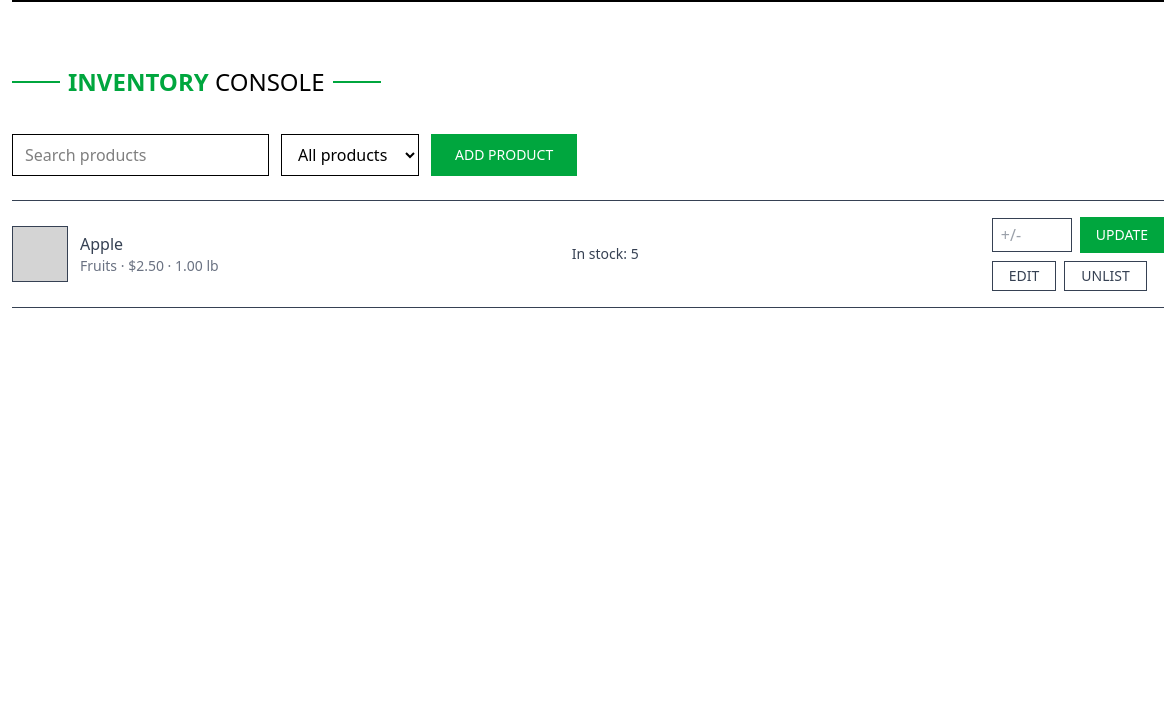
it: Inventory › will not save an edit with the weight removed
This screenshot has width=1176, height=720.
Expected: the text "Apple" is shown, left=80, top=233, right=123, bottom=255
Click the button "EDIT" at coordinates (1024, 276), box left=992, top=261, right=1056, bottom=291
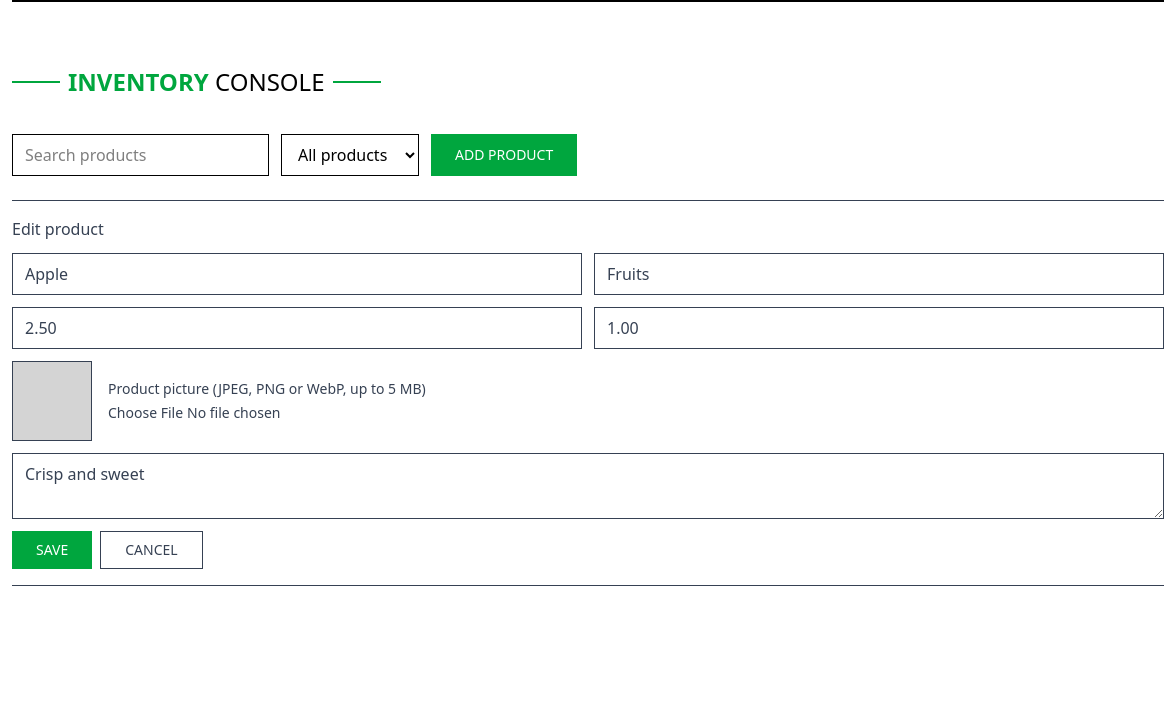
Clear the number field named "Weight in lb" at coordinates (879, 328), box left=594, top=307, right=1164, bottom=349
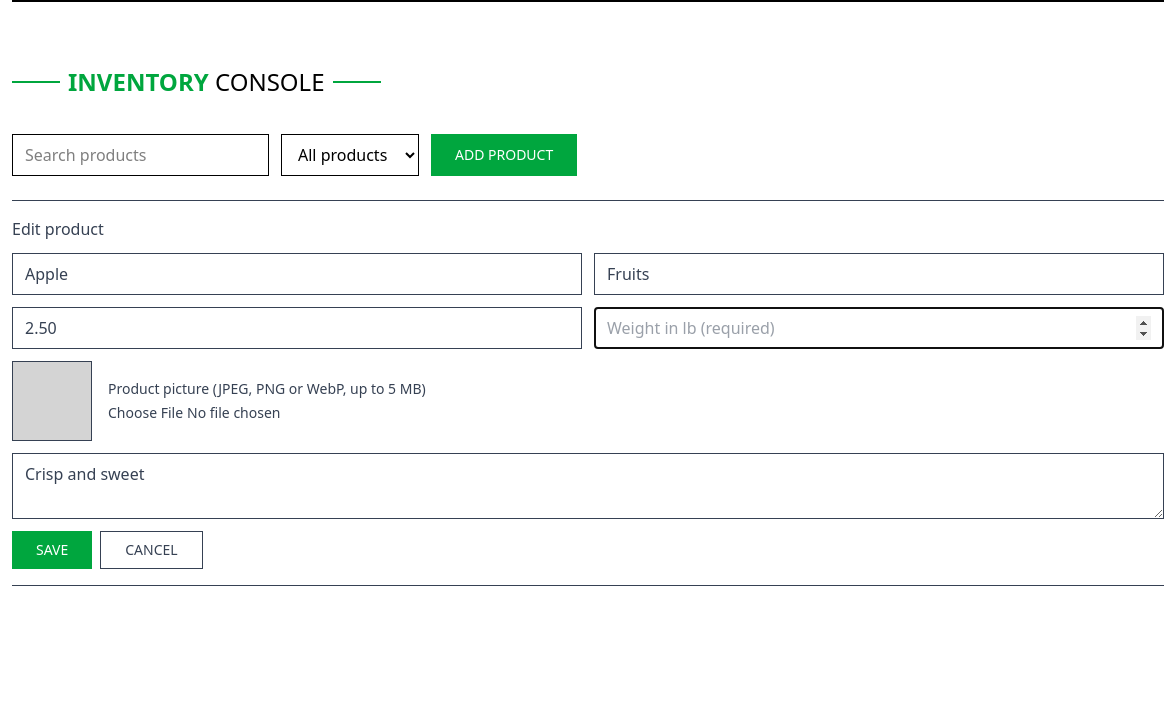
Click the button "SAVE" at coordinates (52, 550), box left=12, top=531, right=92, bottom=569
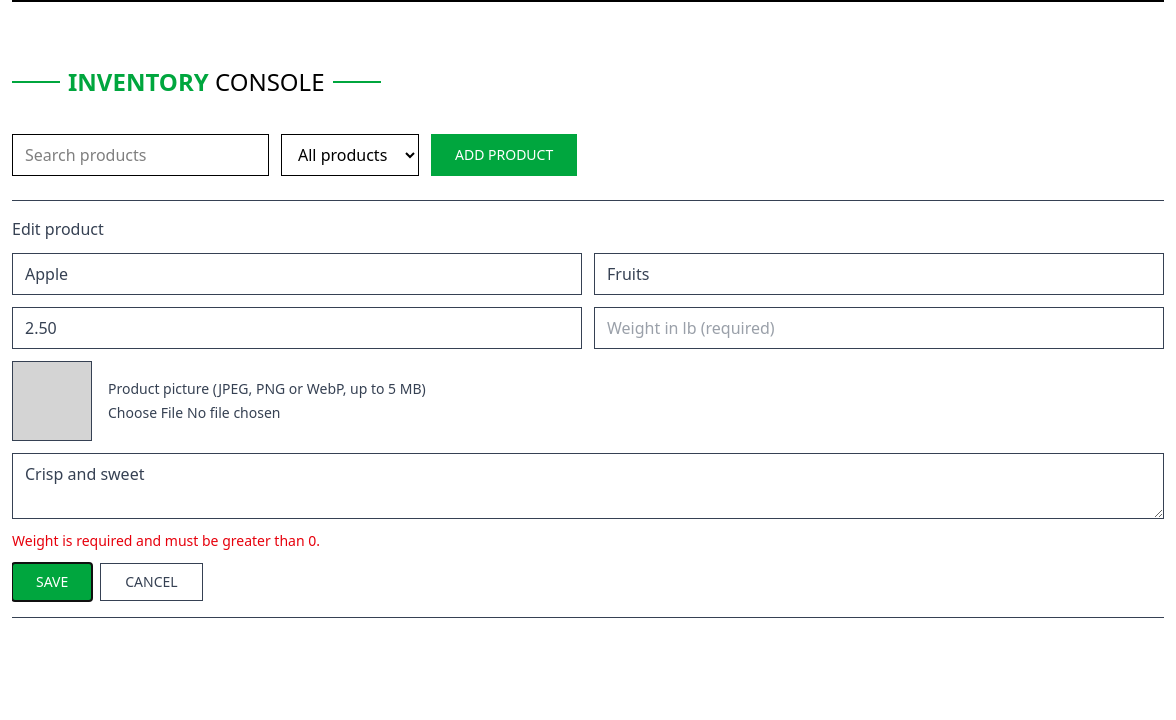
Expected: the text "Weight is required and must be greater than 0." is shown, left=12, top=531, right=320, bottom=550
